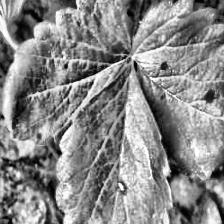Leaf Spot: (54, 61, 173, 224), (1, 0, 132, 147), (132, 0, 224, 180), (169, 173, 206, 206)
